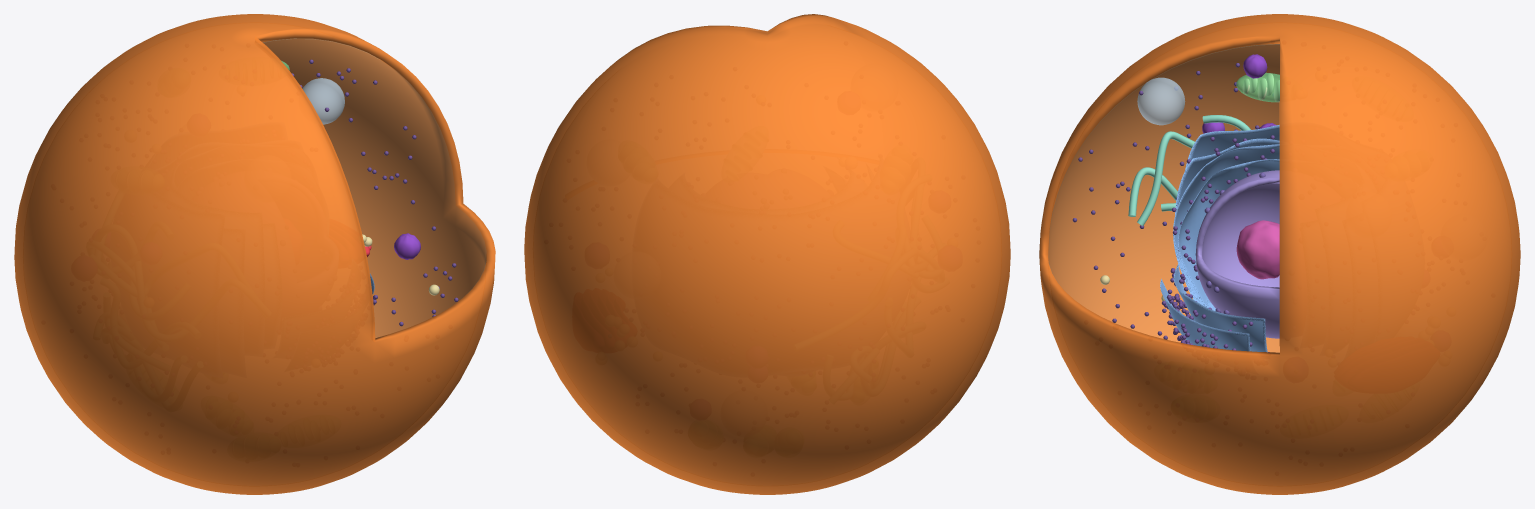
File: animal_cell.glb
3 renders of one model, left to right at view 1: azimuth 30°, elevation 25°; view 2: azimuth 150°, elevation 25°; view 3: azimuth 270°, elevation 25°, orthographic.
Parts seen in each view (by area): view 1: Cell_Membrane, Cytoplasm, Vacuole_03, Ribosomes, Lysosome_02; view 2: Cell_Membrane; view 3: Cell_Membrane, Cytoplasm, Rough_ER, Nucleus, Ribosomes, Nucleolus, Smooth_ER, Vacuole_02, Mitochondrion_01.
Boxes of the visible parts, bbox=[...] form: Cell_Membrane: bbox=[14, 14, 495, 494]; Cytoplasm: bbox=[263, 38, 485, 337]; Vacuole_03: bbox=[302, 78, 344, 124]; Ribosomes: bbox=[291, 59, 458, 326]; Lysosome_02: bbox=[394, 233, 420, 259]; Cell_Membrane: bbox=[524, 14, 1010, 494]; Cell_Membrane: bbox=[1039, 14, 1520, 494]; Cytoplasm: bbox=[1048, 44, 1279, 352]; Rough_ER: bbox=[1160, 125, 1279, 352]; Nucleus: bbox=[1195, 170, 1279, 338]; Ribosomes: bbox=[1072, 63, 1274, 352]; Nucleolus: bbox=[1236, 220, 1279, 279]; Smooth_ER: bbox=[1128, 115, 1250, 225]; Vacuole_02: bbox=[1137, 77, 1185, 125]; Mitochondrion_01: bbox=[1236, 72, 1279, 102].
Bounding box in the file's own units: 4 × 4 × 4.
